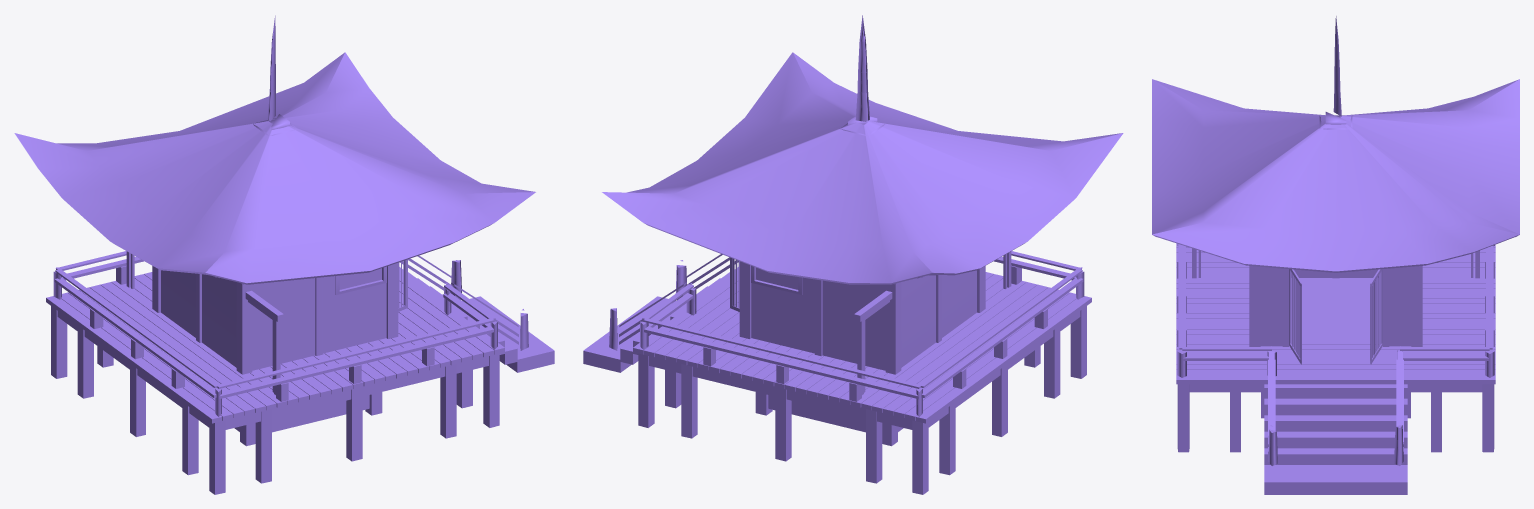
Rendered from TEMPLE LOD2.fbx.
3 renders of one model, left to right at view 1: azimuth 30°, elevation 25°; view 2: azimuth 150°, elevation 25°; view 3: azimuth 270°, elevation 25°, orthographic. The views are drawn at different scales.
Parts seen in each view (by area): view 1: temple_LOD2; view 2: temple_LOD2; view 3: temple_LOD2.
Part boxes in pixels (x1=…): temple_LOD2: x1=14, y1=15, x2=554, y2=494; temple_LOD2: x1=583, y1=15, x2=1123, y2=494; temple_LOD2: x1=1152, y1=16, x2=1519, y2=494.
Size of the model in its own units: 1082 by 981 by 878.
